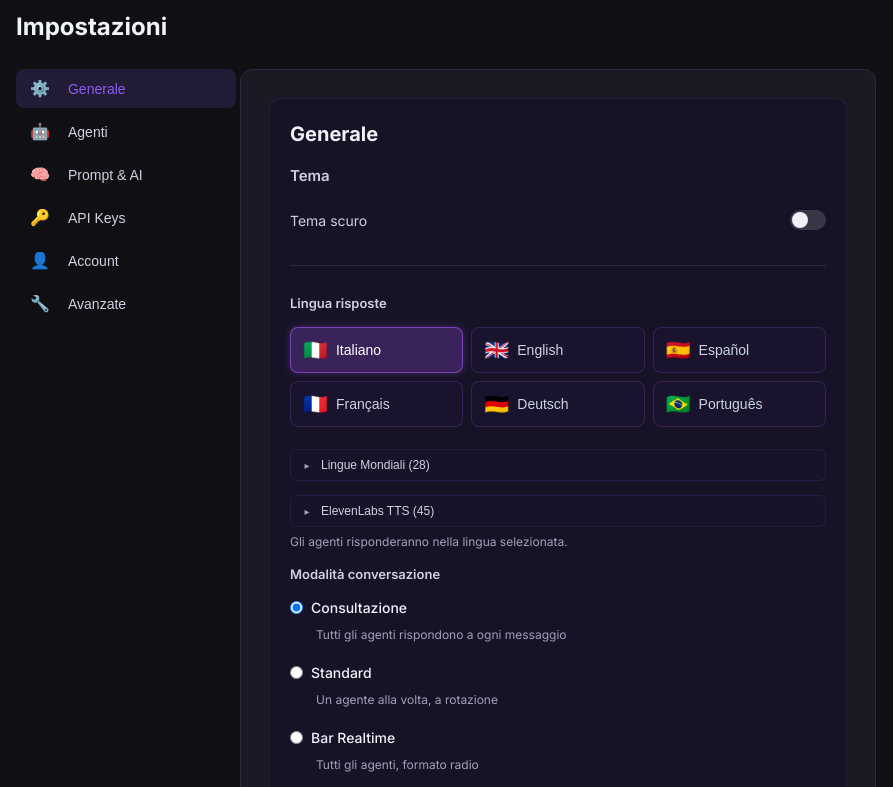
Test: SettingsPage › switches to Agents tab
Expected: the heading "Tema" is shown, left=290, top=166, right=330, bottom=185
Click the tab "🤖 Agenti". click: x=126, y=132
box: left=16, top=112, right=236, bottom=151
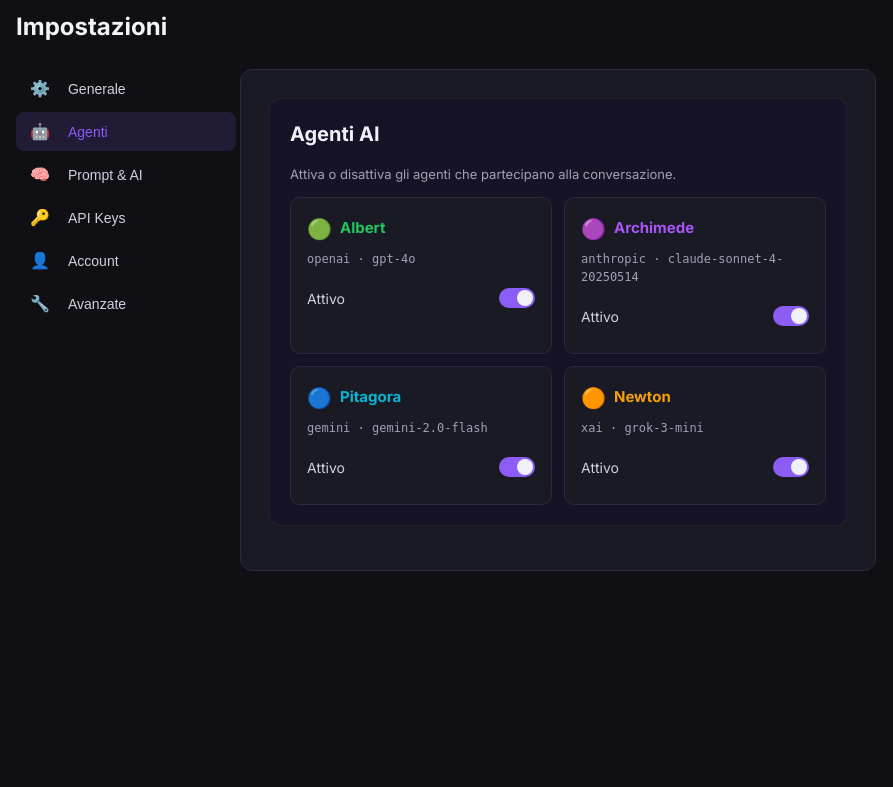
Result: the heading "Agenti AI" is shown at left=290, top=122, right=380, bottom=146
